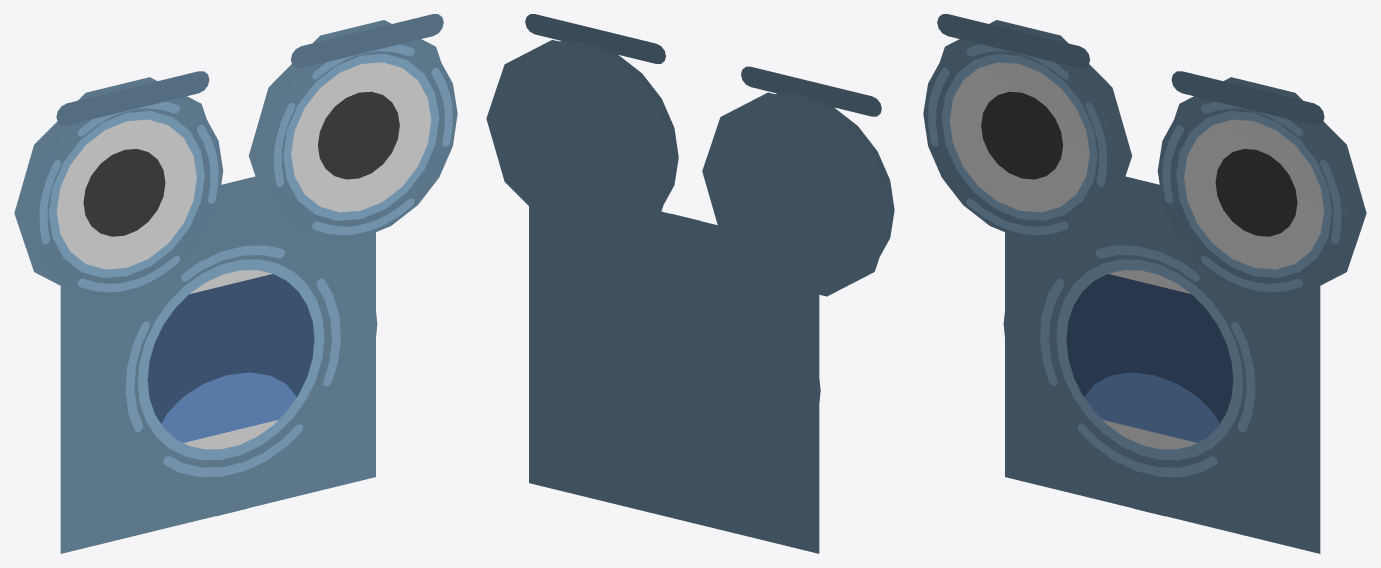
The model's file is faceblendhsapes1.fbx.
3 renders of one model, left to right at view 1: azimuth 30°, elevation 25°; view 2: azimuth 150°, elevation 25°; view 3: azimuth 330°, elevation 25°, orthographic. The views are drawn at different scales.
Visible parts, largest first — view 1: mouthmesh, eyemesh (×2), irismesh (×2); view 2: mouthmesh, eyemesh (×2); view 3: mouthmesh, eyemesh (×2), irismesh (×2).
Boxes of the visible parts, box(x1,y1,x2,y2) form: mouthmesh: box(60, 176, 377, 553); eyemesh (×2): box(14, 14, 457, 298); irismesh (×2): box(83, 91, 399, 236); mouthmesh: box(529, 179, 820, 553); eyemesh (×2): box(486, 14, 894, 296); mouthmesh: box(1003, 176, 1320, 553); eyemesh (×2): box(923, 14, 1366, 298); irismesh (×2): box(981, 91, 1297, 236).
Bounding box in the file's own units: 6.03 × 6.26 × 0.75.
